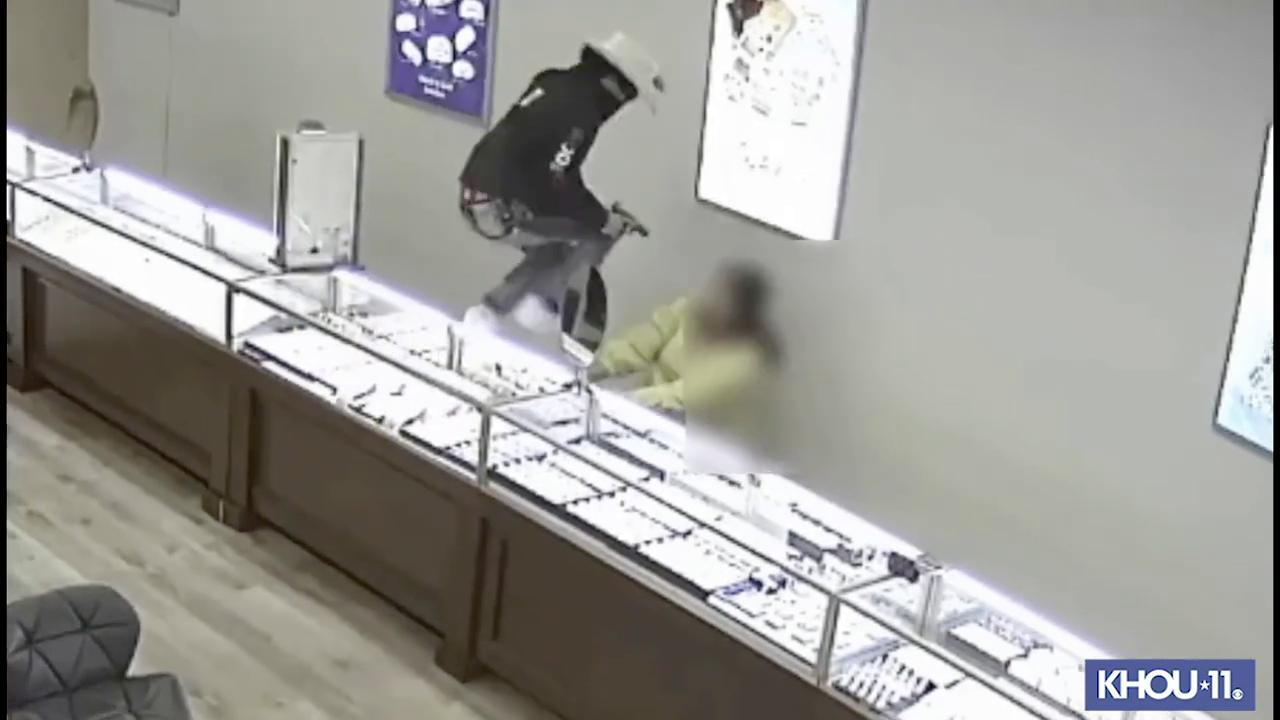gun: (608, 202, 652, 244)
